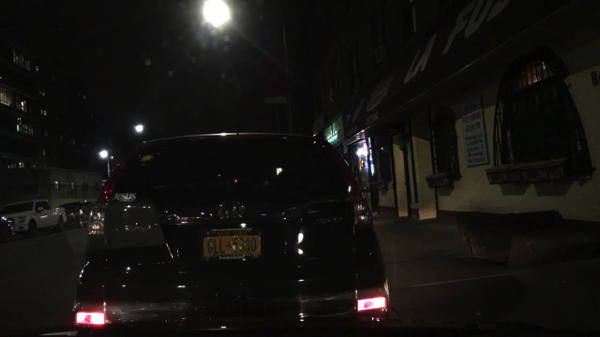car: (70, 133, 389, 331), (59, 200, 95, 228), (0, 215, 15, 242)
traffic sign: (265, 97, 287, 104)
truck: (0, 199, 67, 238)
